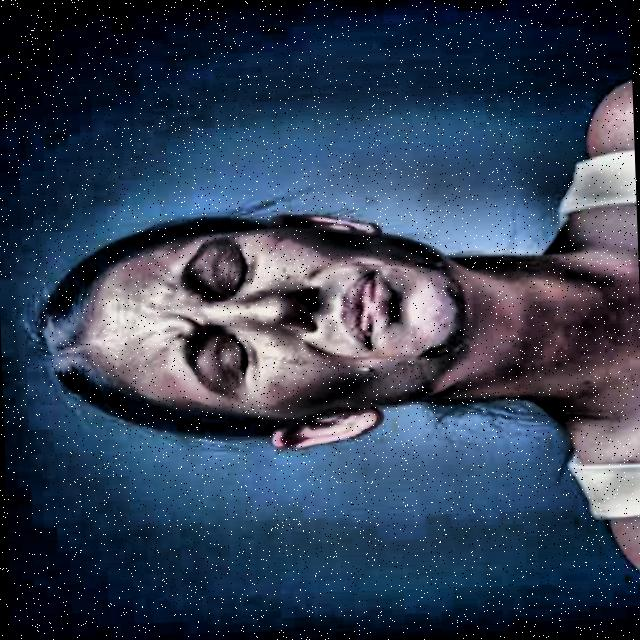sad: (28, 195, 486, 463)
